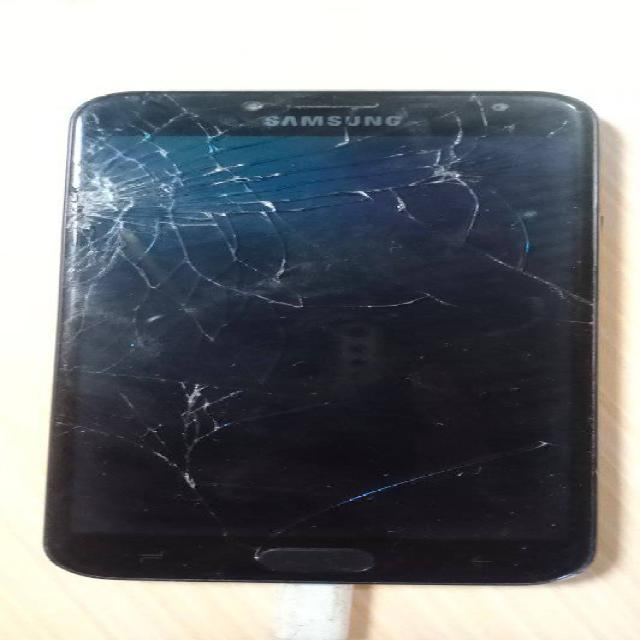phone: (74, 87, 596, 588)
